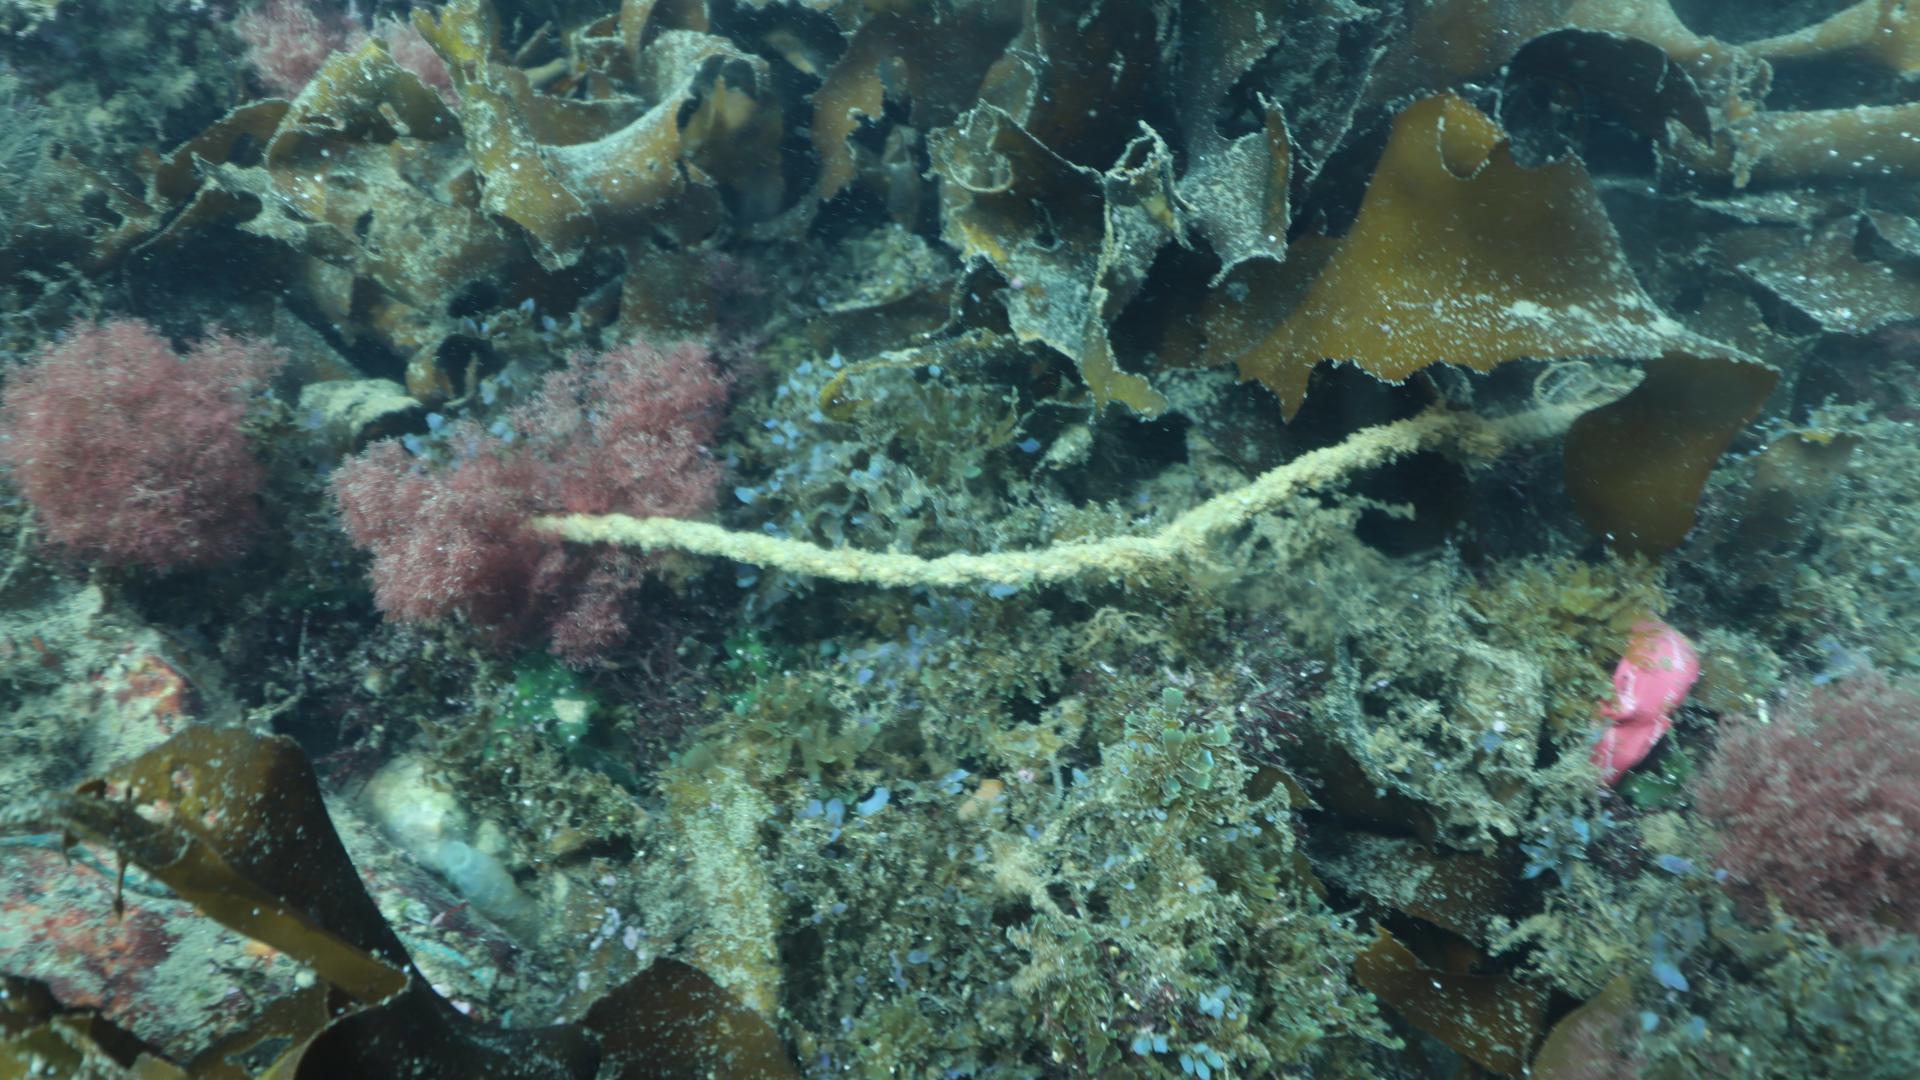rope: (518, 392, 1621, 588)
